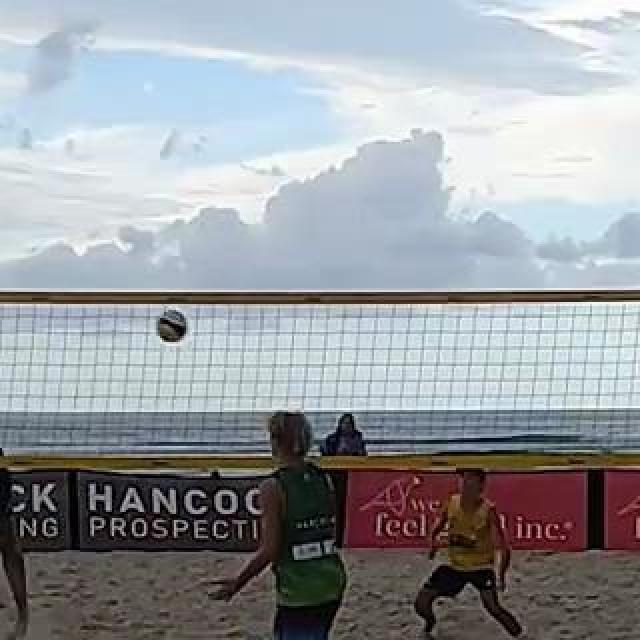volleyball: (160, 311, 188, 341)
